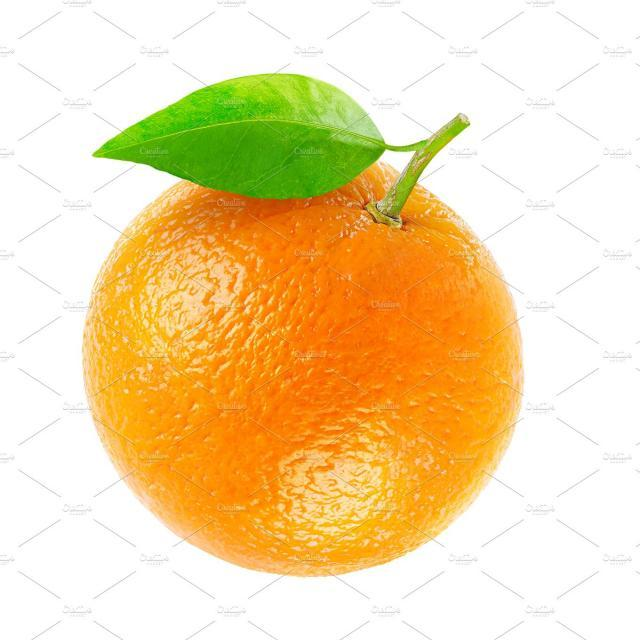orange: (68, 167, 523, 581)
